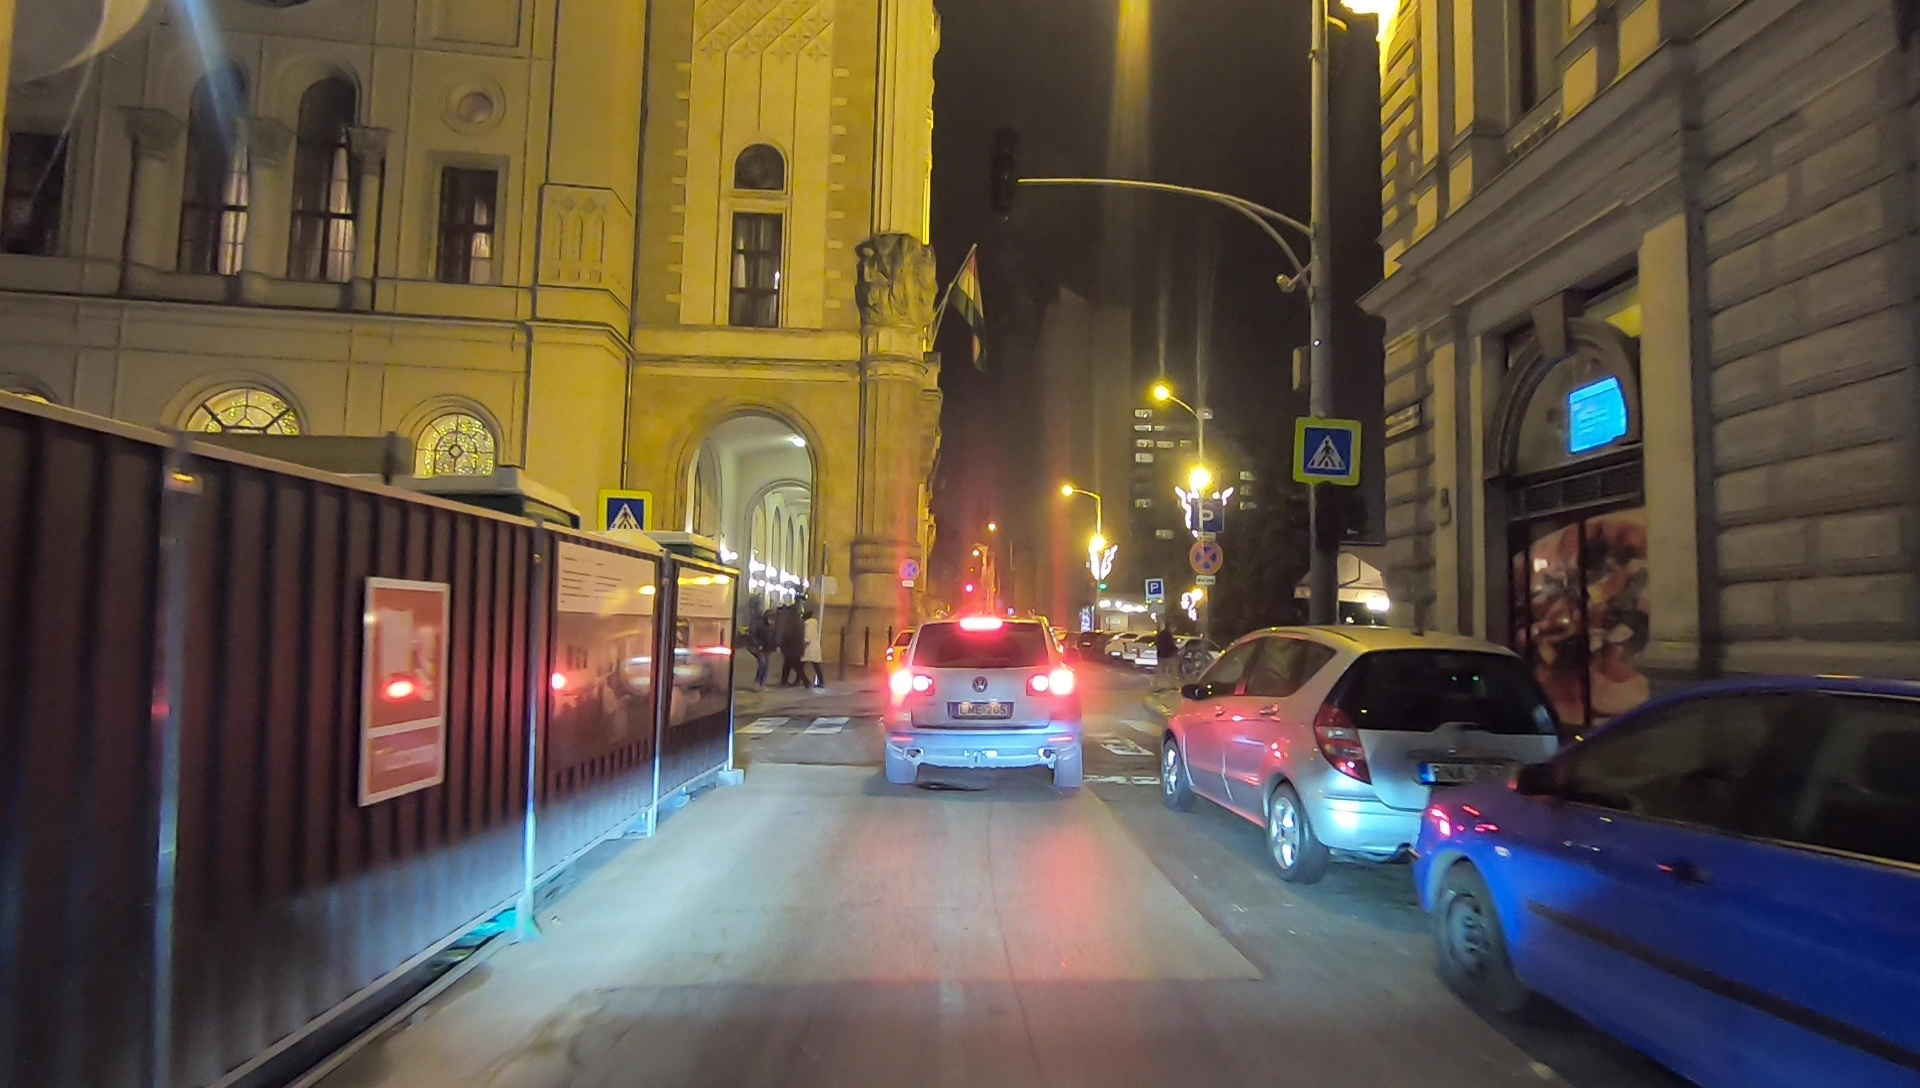person: (745, 609, 778, 689), (800, 611, 829, 692), (780, 601, 806, 689), (1151, 626, 1179, 692)
